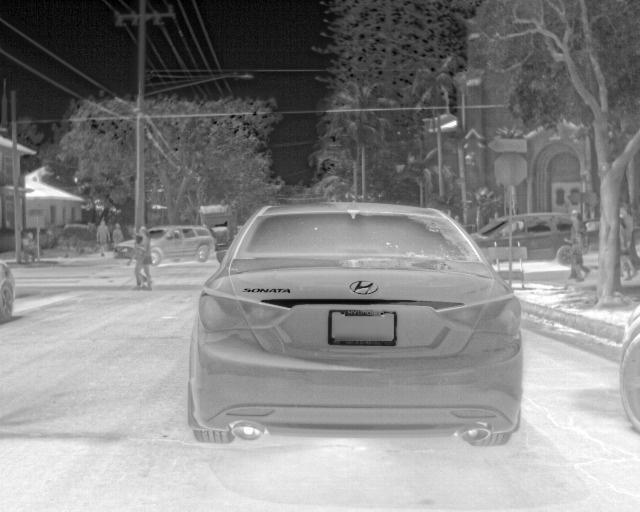bicycle: (185, 192, 521, 443), (513, 209, 573, 261), (146, 224, 216, 261), (618, 315, 638, 437), (470, 217, 504, 250), (0, 259, 17, 322)
empty: (130, 223, 154, 290), (619, 207, 639, 274), (93, 219, 111, 258), (21, 230, 39, 262), (110, 218, 126, 244)
